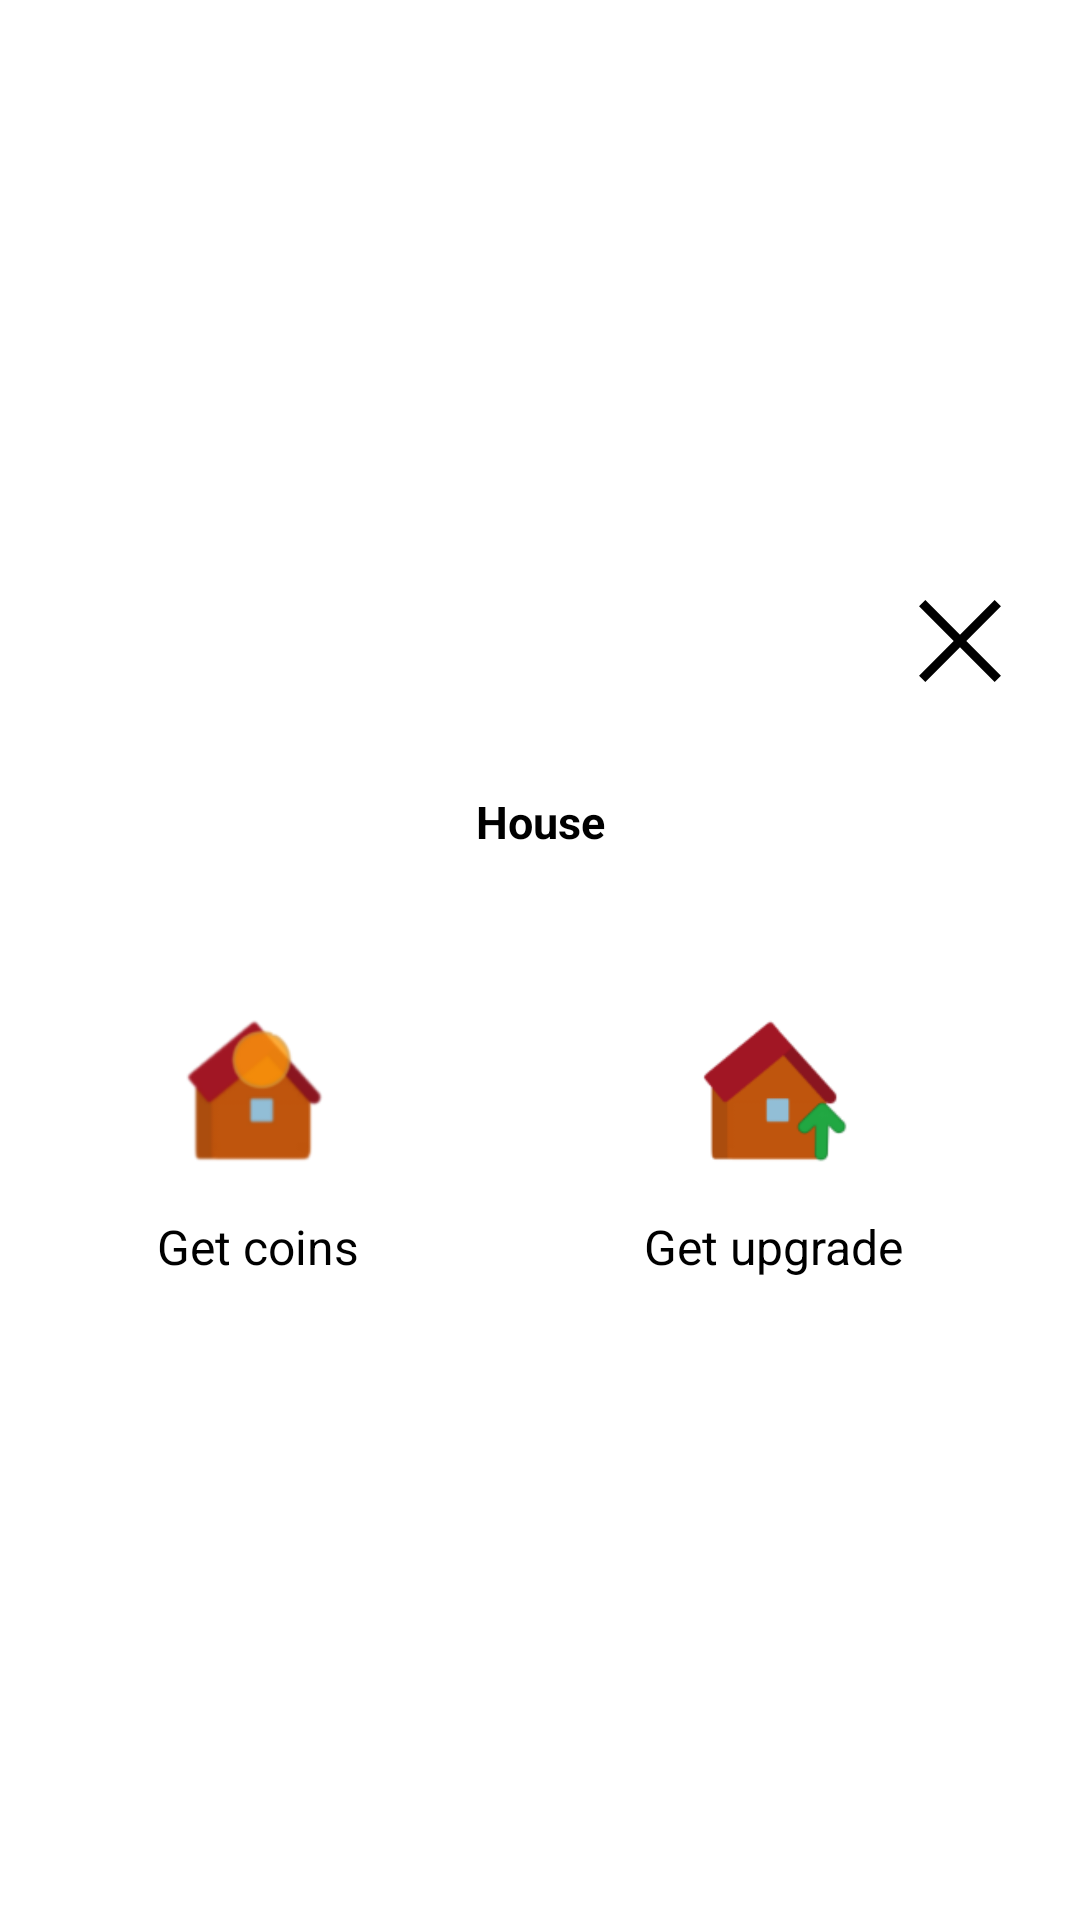

Where icons sit on this 1080w x 1920h app screen, as BBox(x1, y1, x2, y2):
magicworld close: BBox(919, 600, 1001, 682)
